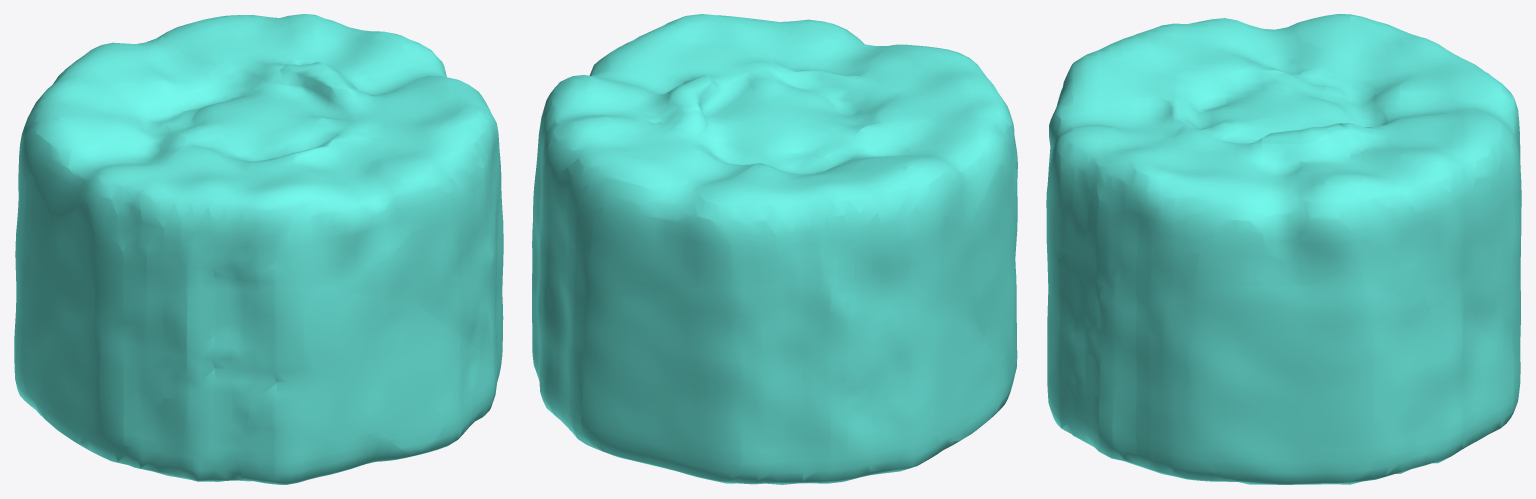
Rendered from StoneWell_part_17.fbx.
3 views of the same model, side by side, from view 1: azimuth 30°, elevation 25°; view 2: azimuth 150°, elevation 25°; view 3: azimuth 270°, elevation 25° (orthographic).
Parts seen in each view (by area): view 1: Cube_Water_0.001; view 2: Cube_Water_0.001; view 3: Cube_Water_0.001.
Boxes of the visible parts, x1,y1,x2,y2 form: Cube_Water_0.001: [14, 14, 503, 484]; Cube_Water_0.001: [532, 14, 1017, 484]; Cube_Water_0.001: [1046, 14, 1521, 484].
Size of the model in its own units: 633 by 445 by 634.
